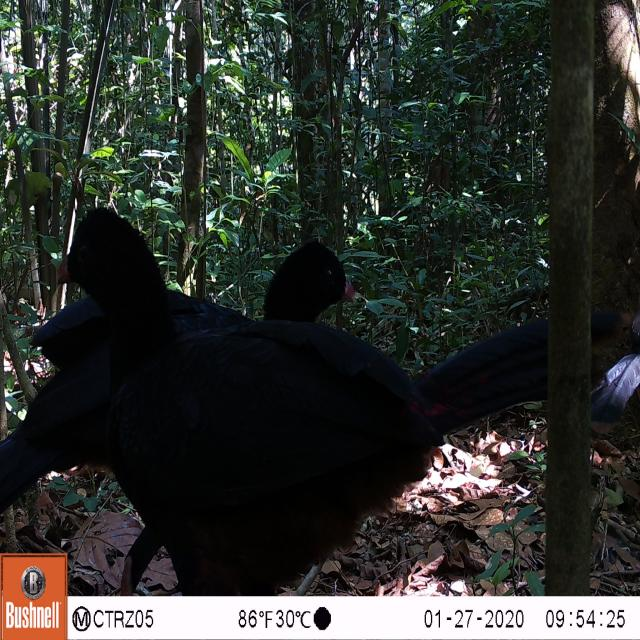Salvins Curassow: (48, 193, 437, 588), (0, 224, 373, 494)
